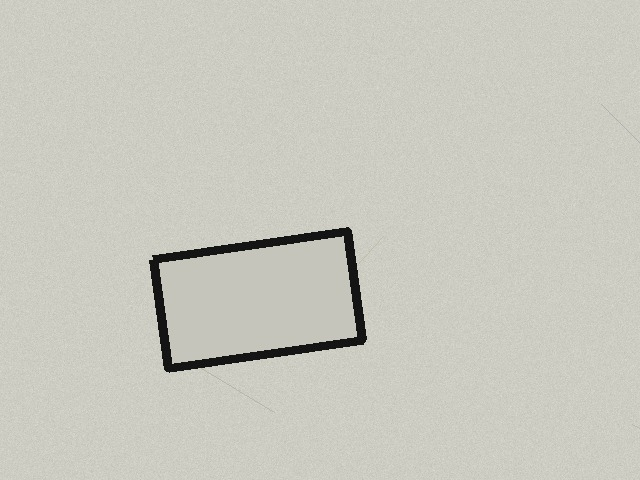parking_area: (153, 231, 362, 368)
